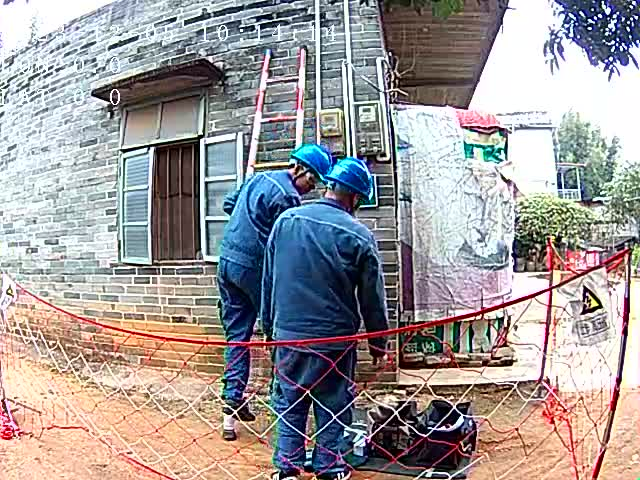downsuit: (271, 346, 357, 474), (217, 268, 264, 408)
halt: (288, 143, 332, 193), (329, 157, 372, 202)
hand: (368, 353, 386, 371)
inear: (288, 160, 310, 182)
person: (263, 152, 388, 477), (212, 141, 331, 424)
upsuit: (265, 198, 385, 336), (218, 168, 304, 263)
